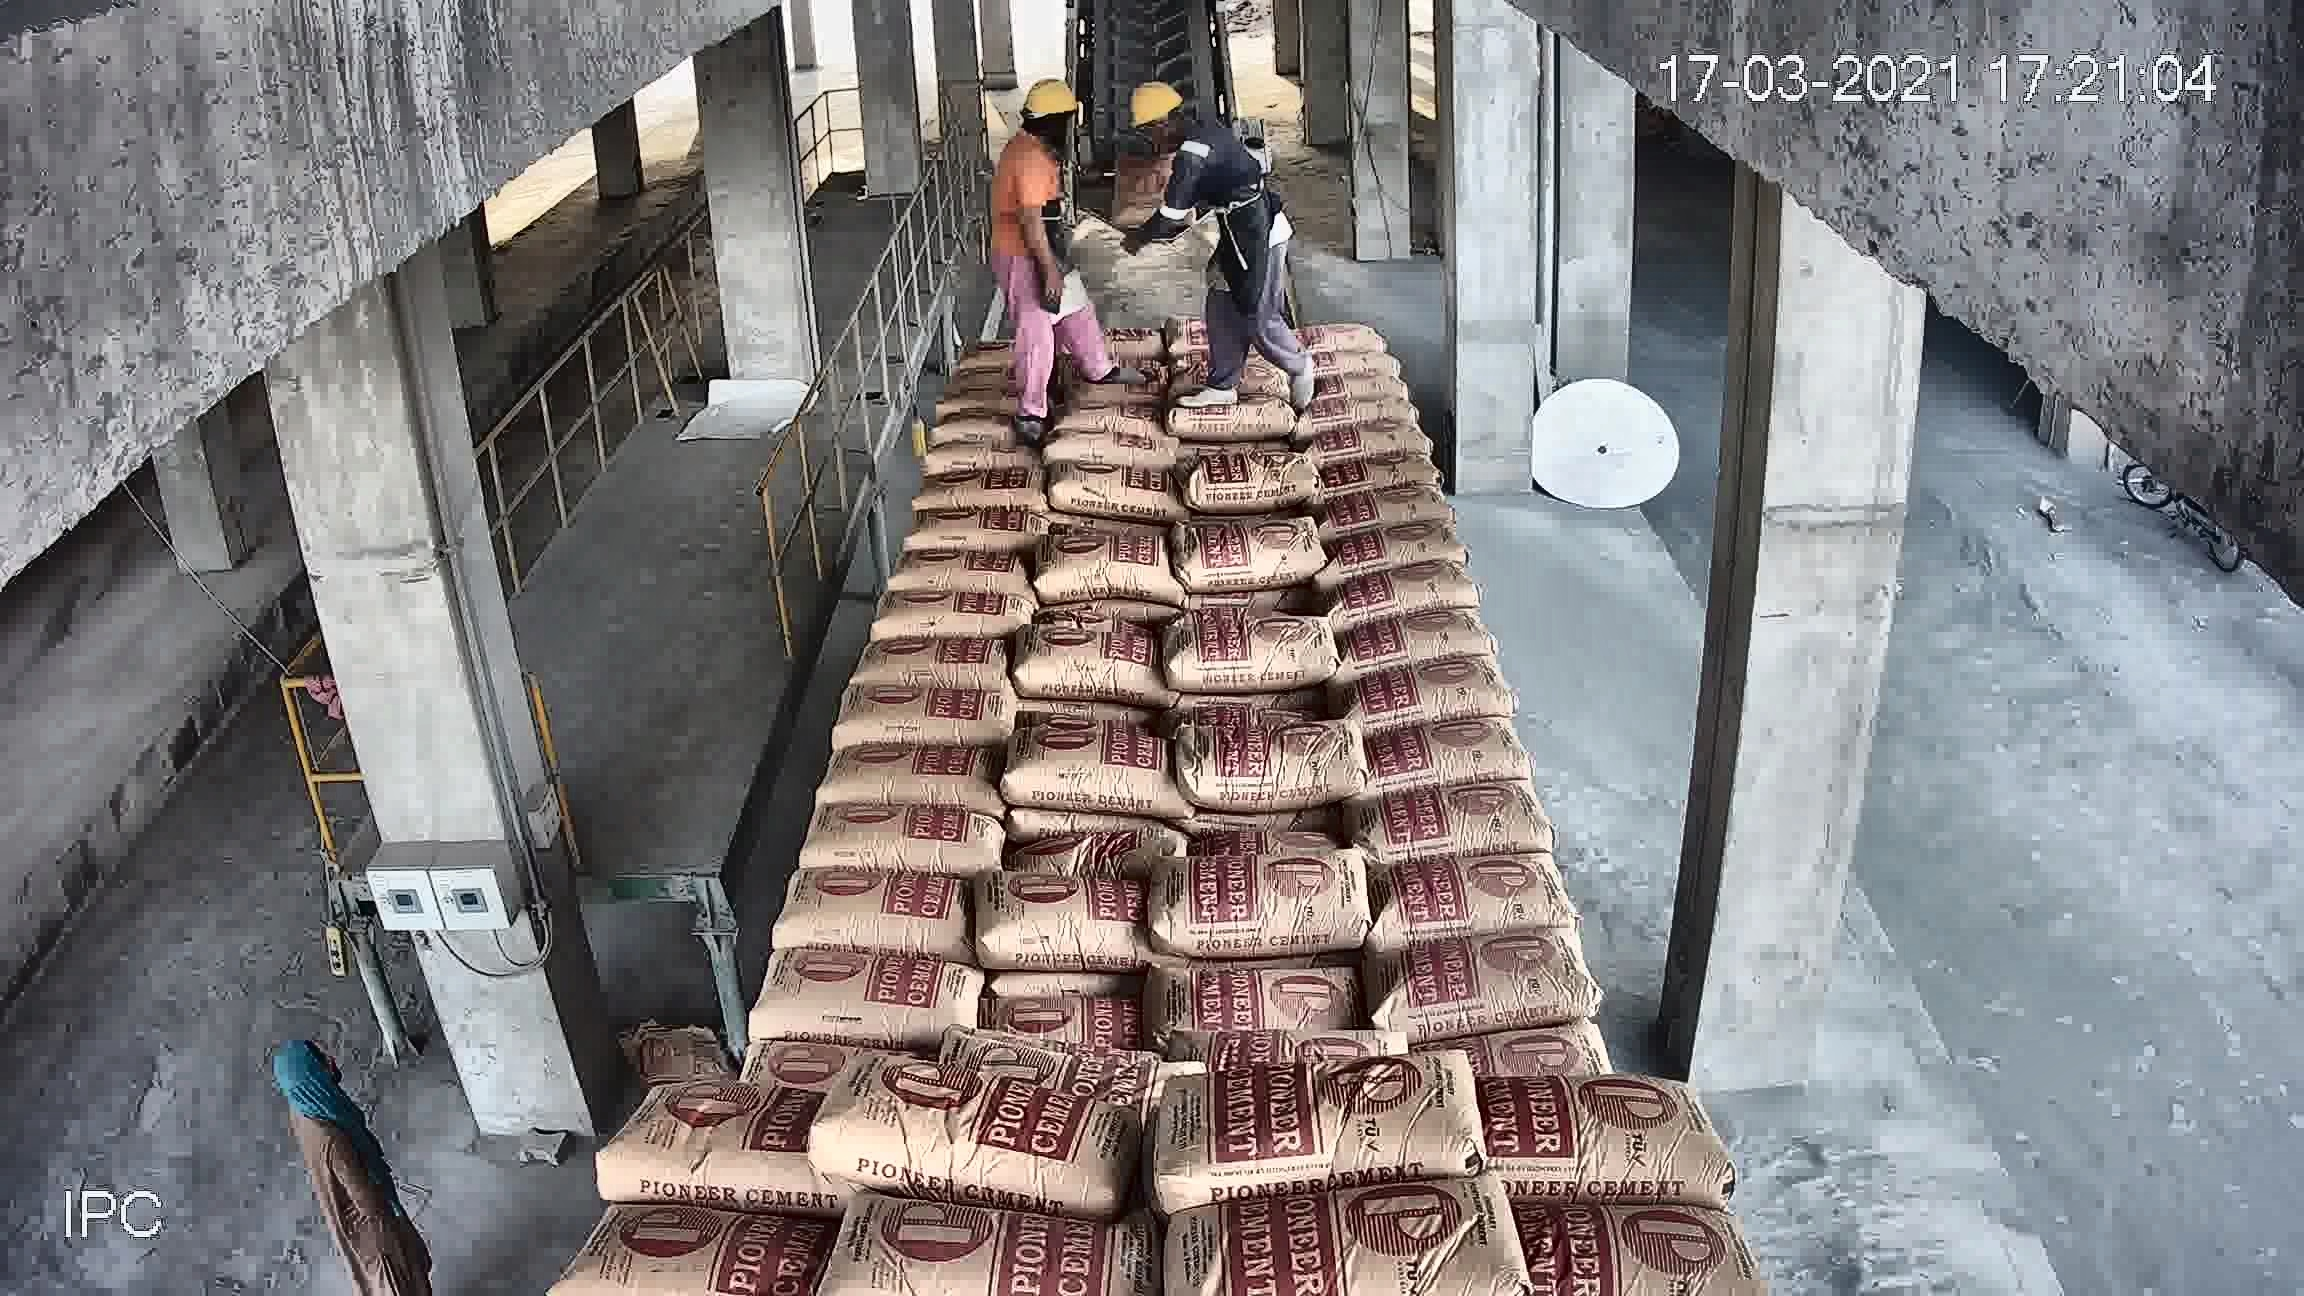bag: (1119, 380, 1233, 514)
bag_h: (1161, 1144, 1549, 1296), (1146, 1041, 1476, 1212), (828, 1071, 1157, 1206), (1133, 932, 1453, 1070), (1454, 1055, 1755, 1201), (1445, 940, 1737, 1081), (1157, 821, 1431, 964), (870, 942, 1152, 1070), (1408, 832, 1655, 978), (1143, 715, 1389, 851), (878, 828, 1135, 954), (641, 953, 878, 1078), (805, 1218, 1177, 1296), (578, 1078, 801, 1206), (1467, 1201, 1764, 1296), (692, 851, 911, 980), (1396, 755, 1609, 878), (517, 1188, 831, 1261), (911, 756, 1101, 847), (712, 790, 900, 878), (810, 674, 972, 748), (1404, 704, 1532, 782), (839, 628, 972, 703), (1407, 642, 1513, 723), (1161, 563, 1287, 625), (1141, 627, 1264, 684), (859, 585, 973, 644), (820, 748, 926, 791), (885, 538, 961, 590)
belt: (989, 0, 1285, 517)
